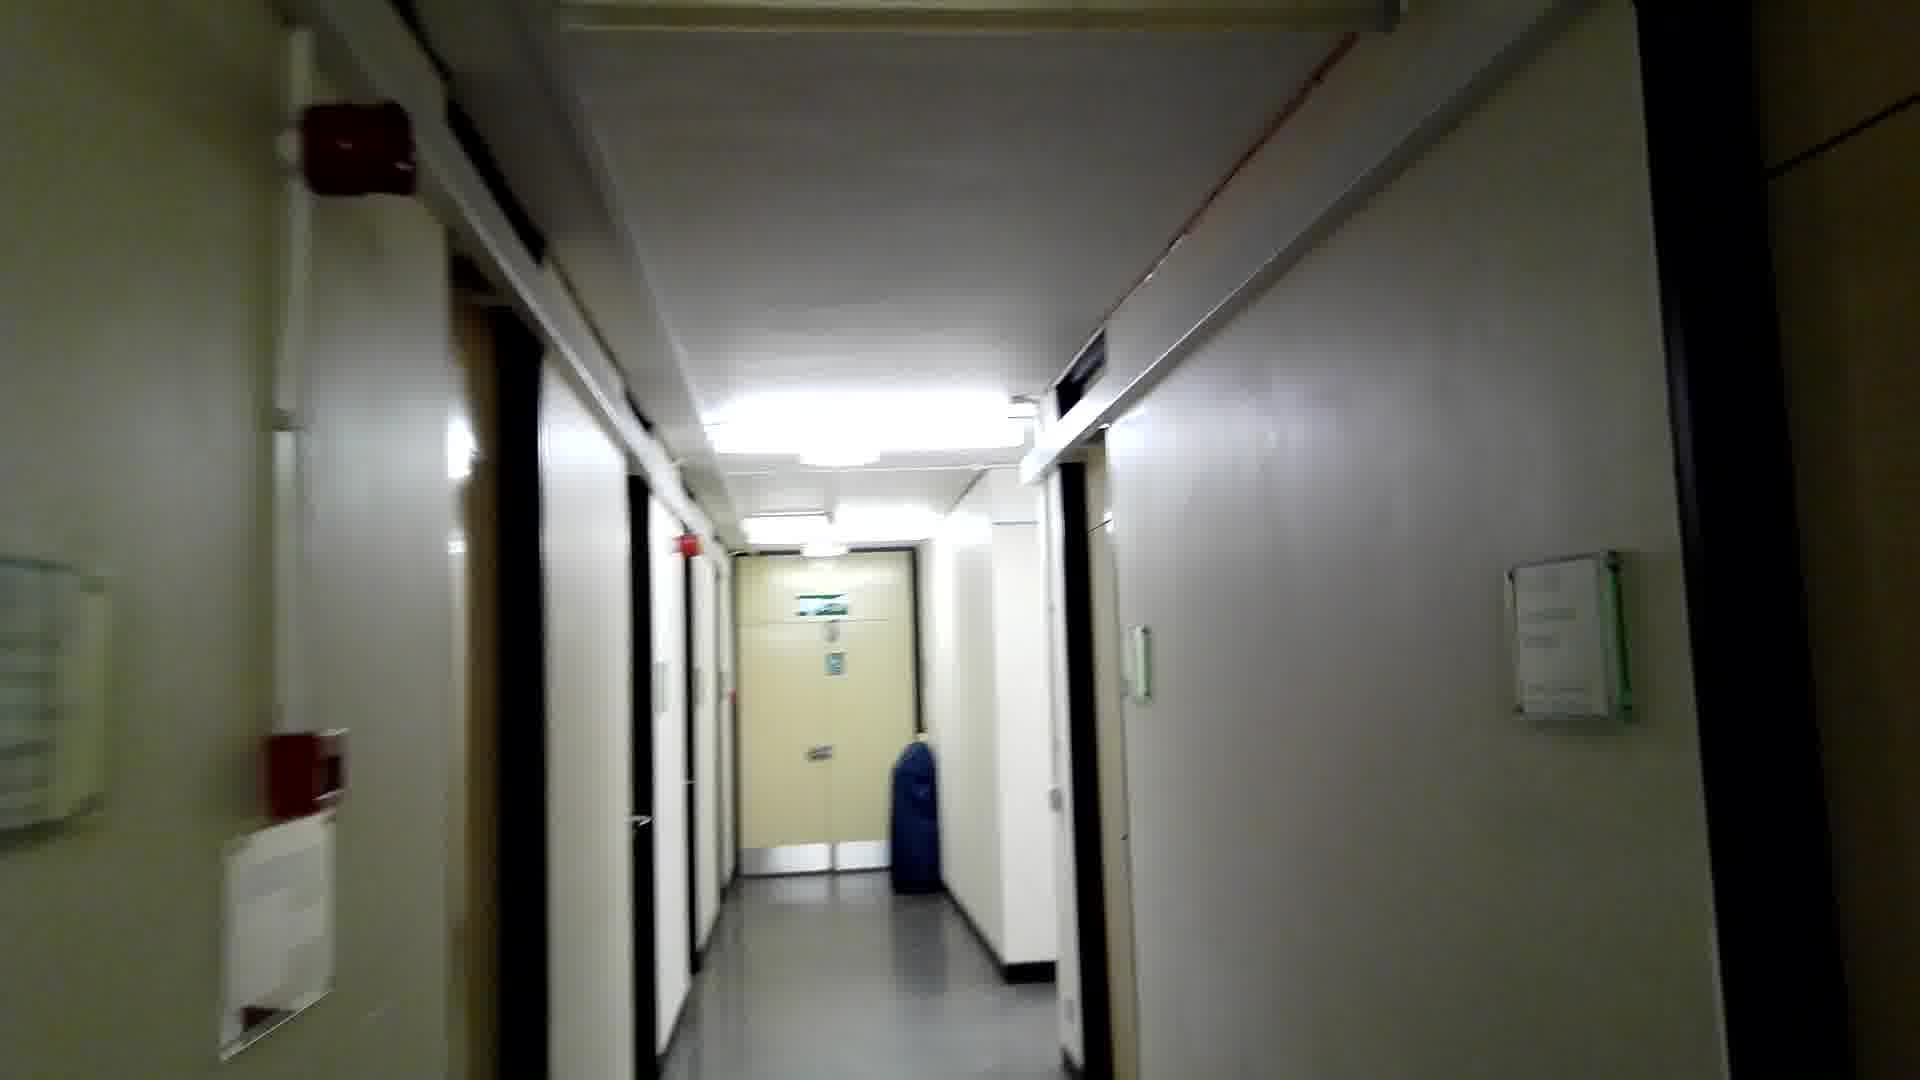Bin: (882, 733, 945, 911)
Door: (430, 79, 563, 1080), (1044, 359, 1164, 1077)
